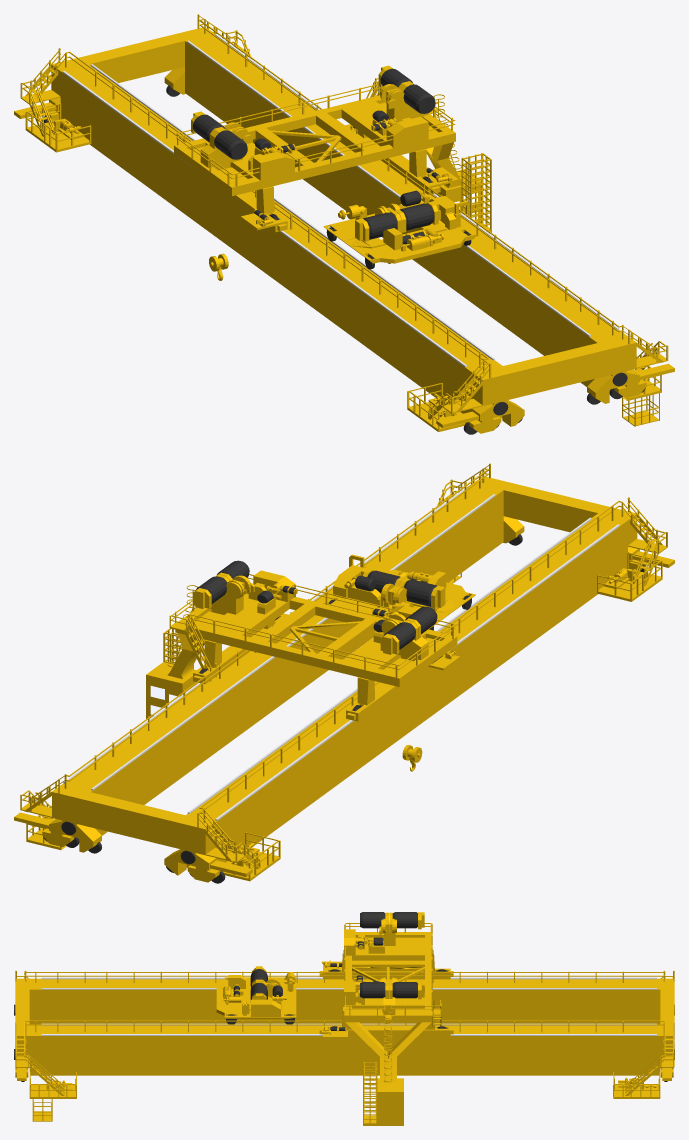
3 renders of one model, top to bottom at view 1: azimuth 30°, elevation 25°; view 2: azimuth 150°, elevation 25°; view 3: azimuth 270°, elevation 25°, orthographic. The views are drawn at different scales.
Parts seen in each view (by area): view 1: 2_Bay_C_871_Body, 2_Bay_C_871_Head_01, 2_Bay_C_871_Head_02; view 2: 2_Bay_C_871_Body, 2_Bay_C_871_Head_01, 2_Bay_C_871_Head_02; view 3: 2_Bay_C_871_Body, 2_Bay_C_871_Head_01, 2_Bay_C_871_Head_02.
Part boxes in pixels (bbox=[...]): 2_Bay_C_871_Body: bbox=[14, 14, 674, 434]; 2_Bay_C_871_Head_01: bbox=[174, 65, 491, 280]; 2_Bay_C_871_Head_02: bbox=[323, 190, 477, 269]; 2_Bay_C_871_Body: bbox=[14, 463, 674, 883]; 2_Bay_C_871_Head_01: bbox=[146, 560, 459, 771]; 2_Bay_C_871_Head_02: bbox=[322, 554, 475, 630]; 2_Bay_C_871_Body: bbox=[14, 970, 674, 1121]; 2_Bay_C_871_Head_01: bbox=[319, 912, 453, 1125]; 2_Bay_C_871_Head_02: bbox=[216, 966, 296, 1024].
Size of the model in its own units: 16.97 by 10.15 by 46.11.
